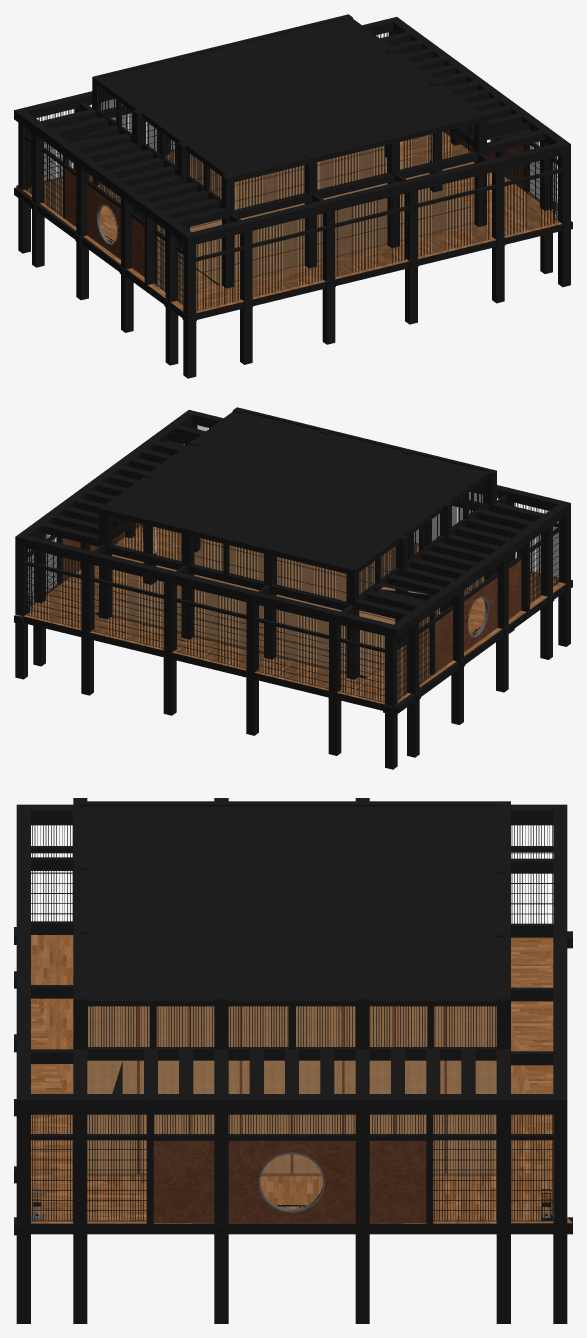
3 renders of one model, top to bottom at view 1: azimuth 30°, elevation 25°; view 2: azimuth 150°, elevation 25°; view 3: azimuth 270°, elevation 25°, orthographic. The views are drawn at different scales.
Parts seen in each view (by area): view 1: Matrix_Dojo; view 2: Matrix_Dojo; view 3: Matrix_Dojo.
Part boxes in pixels (x1=…): Matrix_Dojo: x1=14, y1=14, x2=572, y2=378; Matrix_Dojo: x1=14, y1=407, x2=572, y2=769; Matrix_Dojo: x1=14, y1=798, x2=572, y2=1323.
Size of the model in its own units: 12.47 by 5.35 by 9.9.
8 materials, 7 textured.
